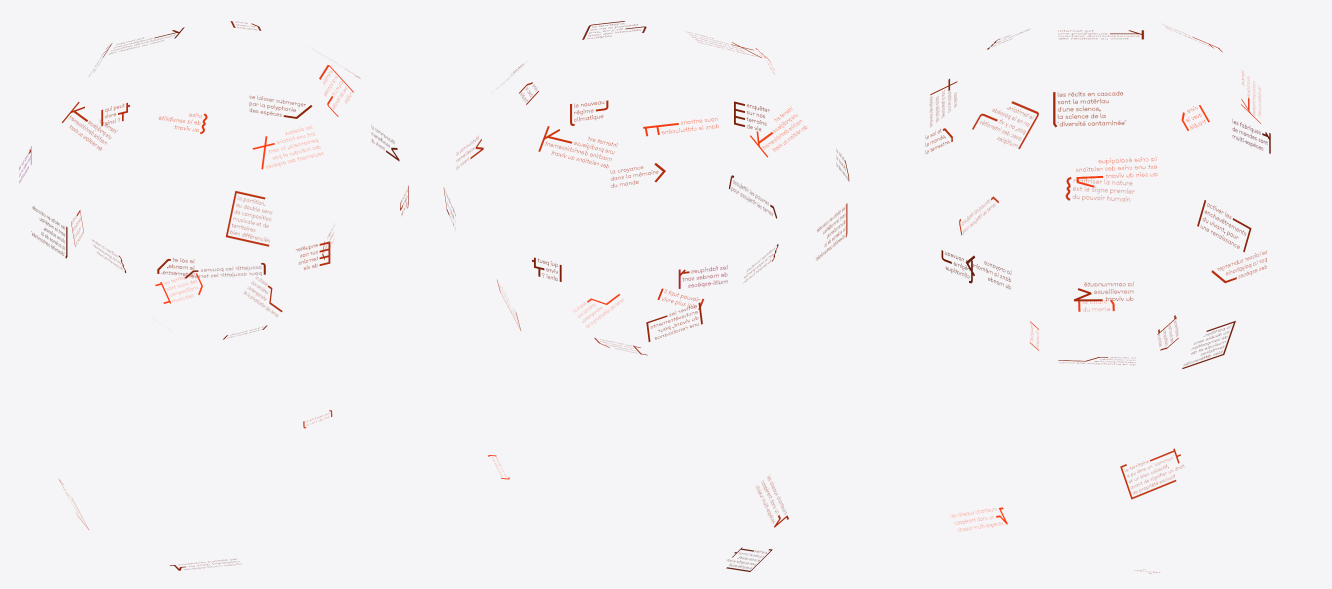
File: Cartel.gltf
3 renders of one model, left to right at view 1: azimuth 30°, elevation 25°; view 2: azimuth 150°, elevation 25°; view 3: azimuth 270°, elevation 25°, orthographic. The views are drawn at different scales.
Visible parts, largest first — view 1: 26, 27; view 2: 14; view 3: 28, 25, 3, 12, 1.
Boxes of the visible parts, x1,y1,x2,y2 form: 26: (225,191,272,246); 27: (252,125,323,169); 14: (538,126,617,168); 28: (1120,448,1184,499); 25: (972,101,1038,149); 3: (1053,91,1125,127); 12: (1076,156,1157,187); 1: (1197,200,1251,252).
Size of the model in its own units: 124 by 161 by 123.
28 materials, 28 textured.
